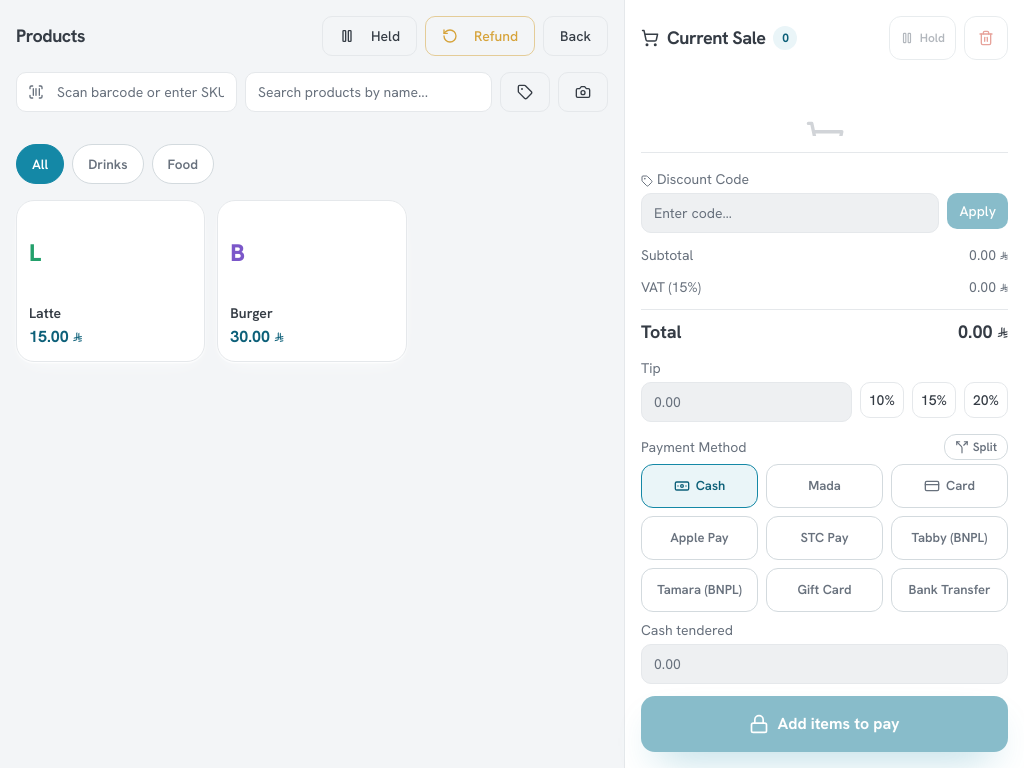
Scenario: POSTerminal selected-state a11y (#226) › exposes the selected payment method via aria-pressed
Selecting another tender moves the pressed state with it.
Click the button "Card" at (950, 486), box [891,464,1008,508]
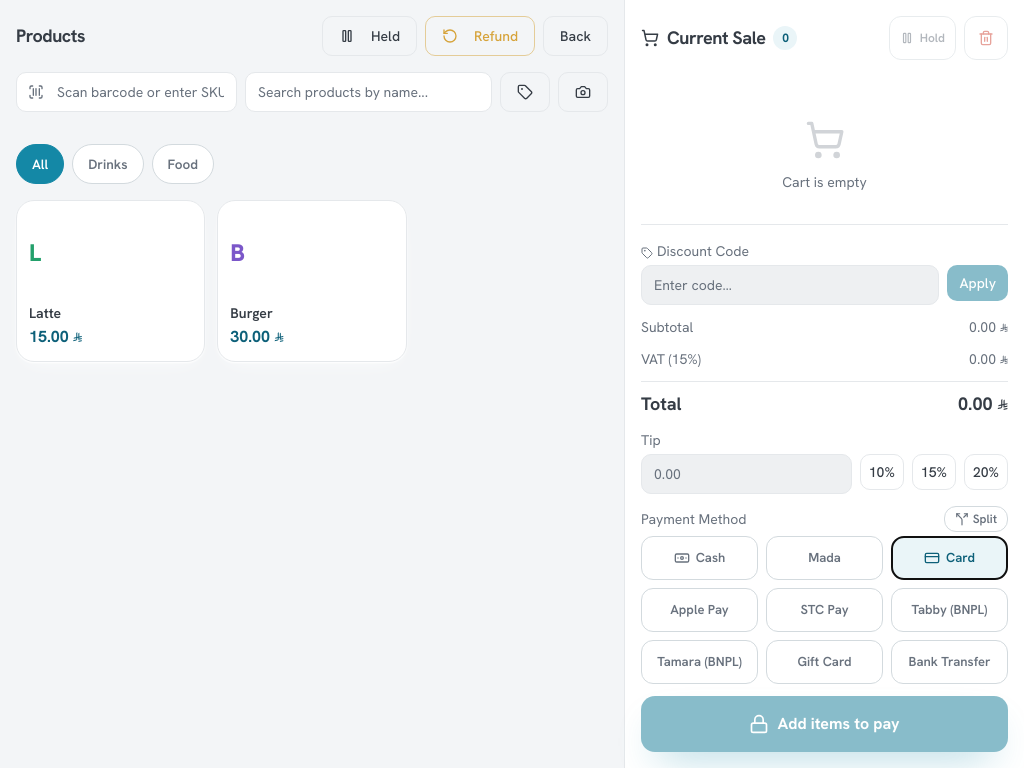
Check: the button "Card" is pressed, box [891,536,1008,580]
Check: the button "Cash" is not pressed, box [641,536,758,580]
